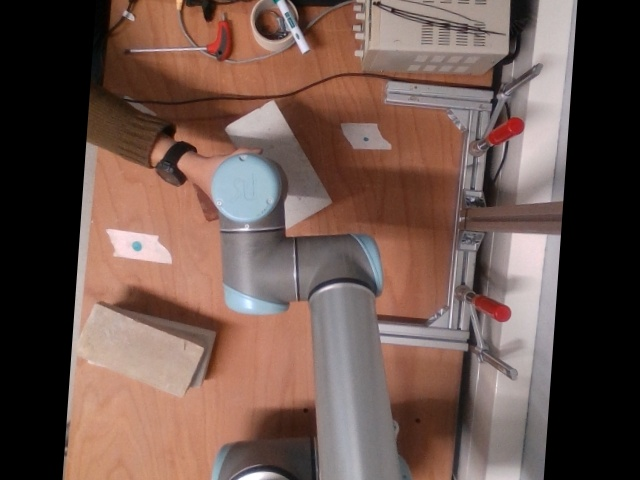brick: (74, 303, 202, 397)
